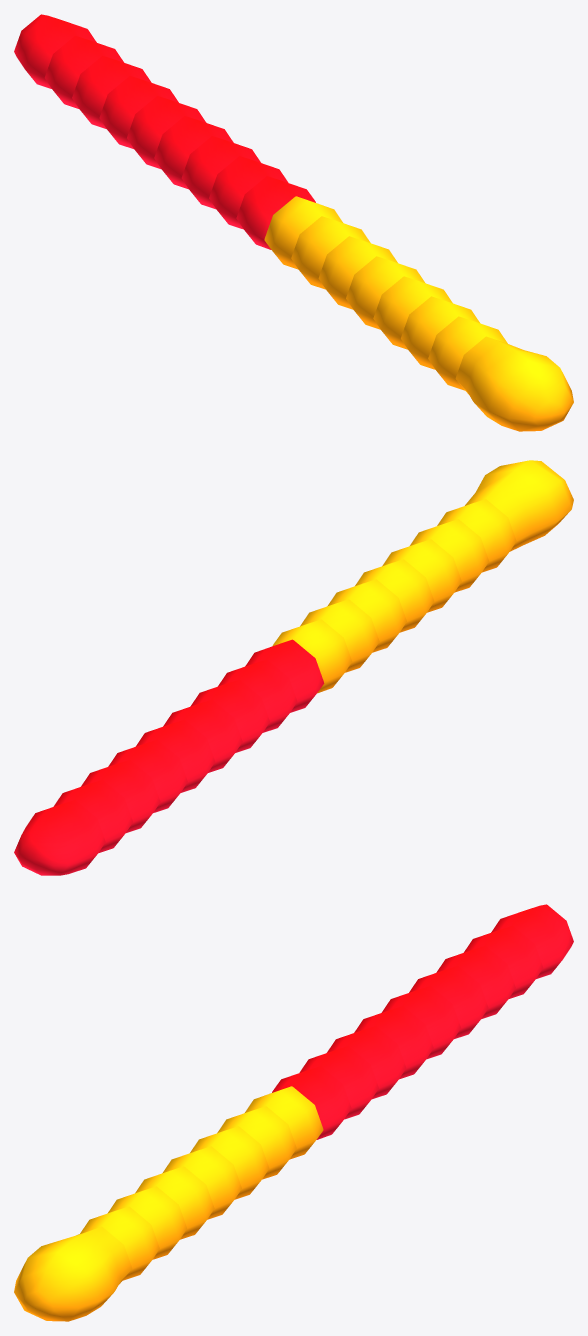
File: MarmaladeSnake_02.glb
3 renders of one model, top to bottom at view 1: azimuth 30°, elevation 25°; view 2: azimuth 150°, elevation 25°; view 3: azimuth 330°, elevation 25°, orthographic.
Visible parts, largest first — view 1: MarmaladeSnake_02; view 2: MarmaladeSnake_02; view 3: MarmaladeSnake_02.
Boxes of the visible parts, x1,y1,x2,y2 form: MarmaladeSnake_02: (14, 14, 573, 431); MarmaladeSnake_02: (14, 460, 573, 875); MarmaladeSnake_02: (14, 904, 573, 1321).
Size of the model in its own units: 0.8882 by 0.6578 by 9.35.
1 material, 1 textured.
